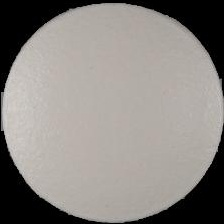55154-3878: (0, 0, 224, 224)
